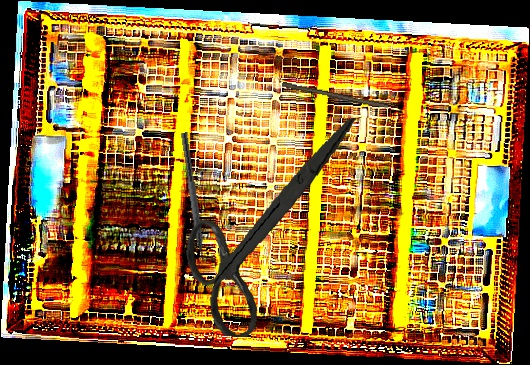Chopper: (170, 132, 210, 271)
Iris Scissors: (179, 104, 357, 346)
Scalpel Handle: (281, 81, 389, 111)
